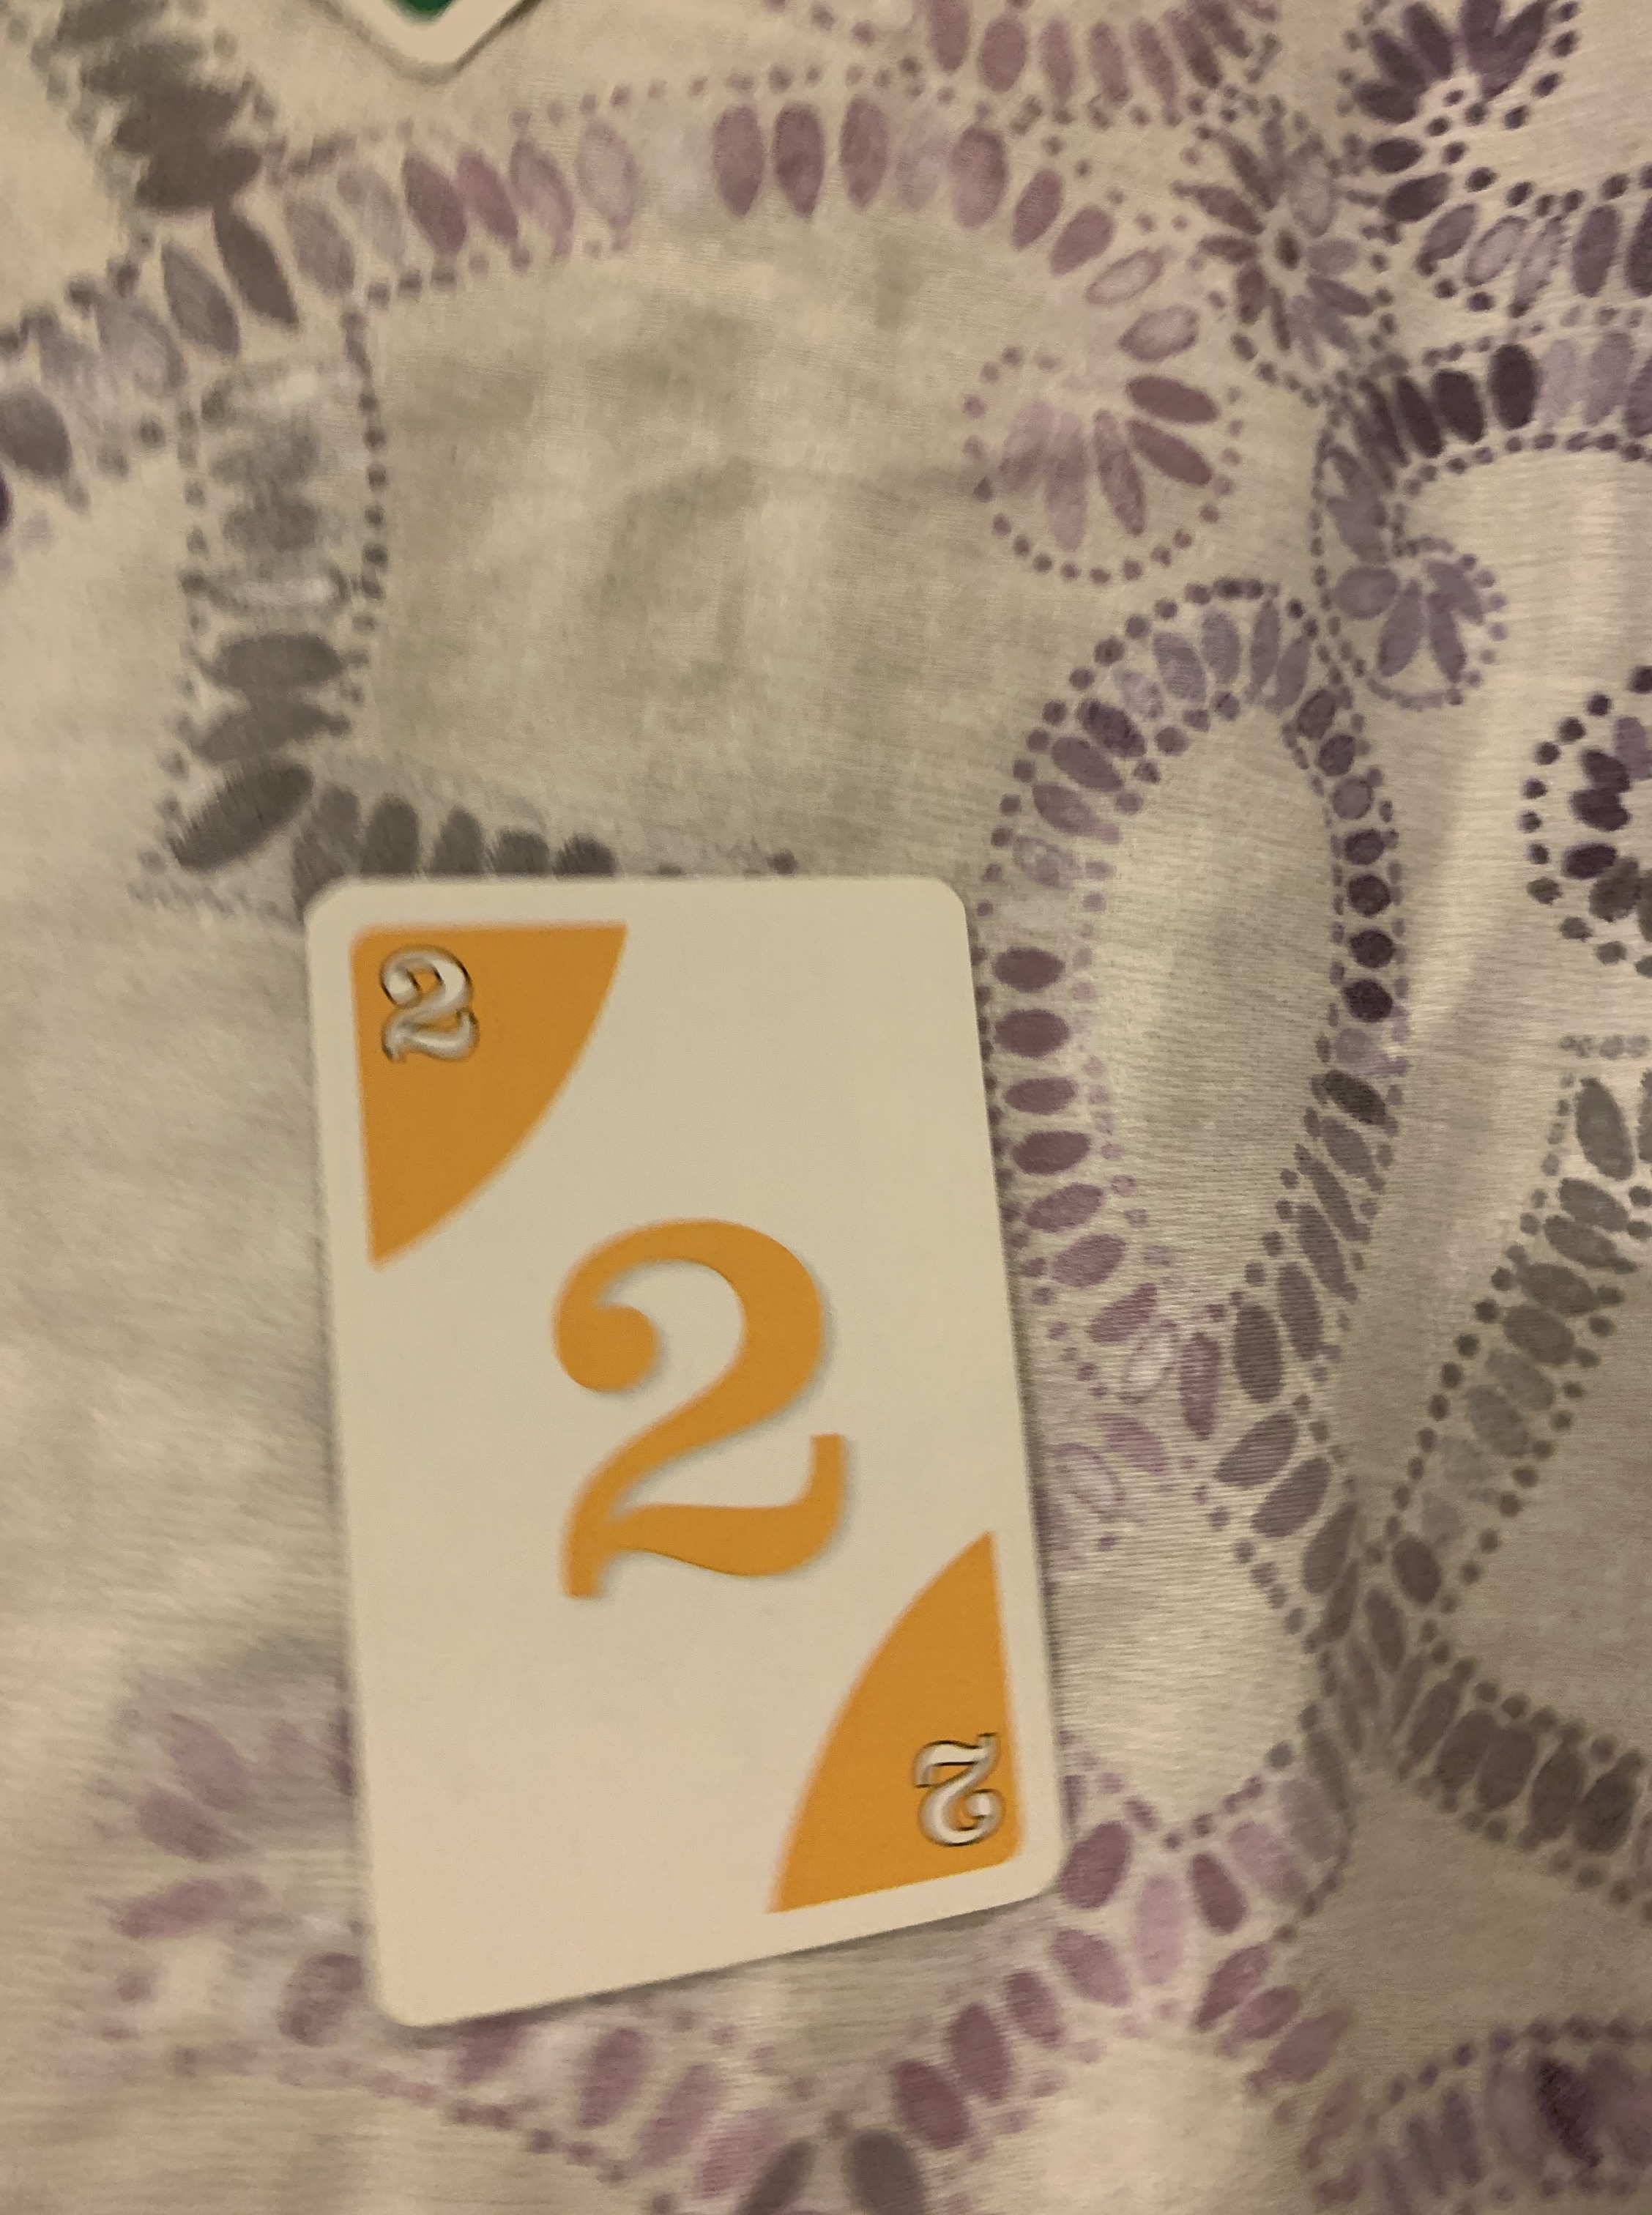two: (300, 870, 1074, 2036)
